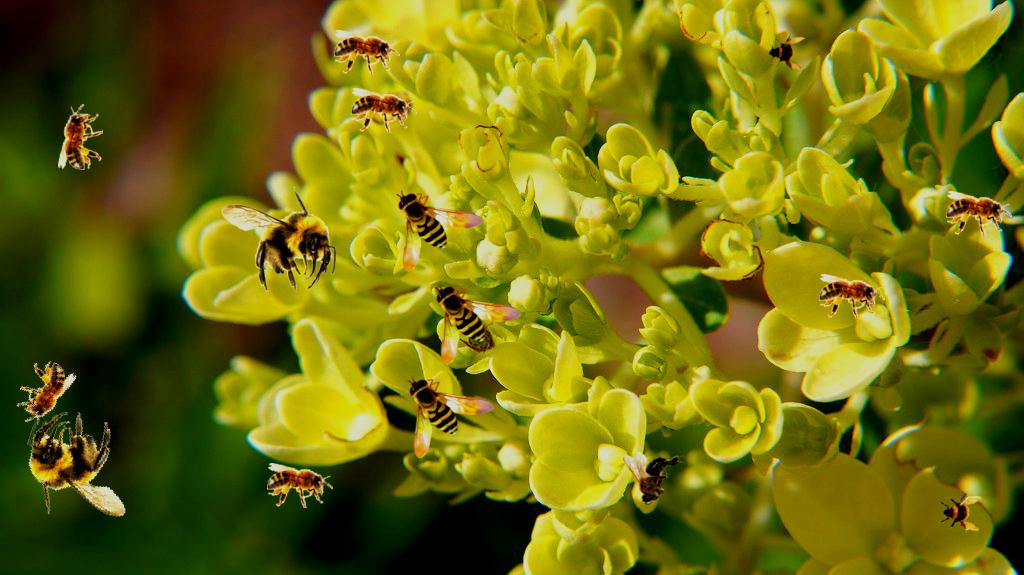Bee: (8, 399, 151, 538), (221, 186, 336, 293), (434, 283, 522, 365), (407, 376, 495, 458), (396, 190, 484, 272), (7, 353, 79, 434), (623, 452, 685, 505), (946, 191, 1012, 236), (58, 104, 103, 170), (267, 463, 333, 508), (819, 274, 885, 319), (334, 30, 400, 75), (351, 88, 417, 133), (762, 28, 808, 74), (938, 489, 982, 533)
